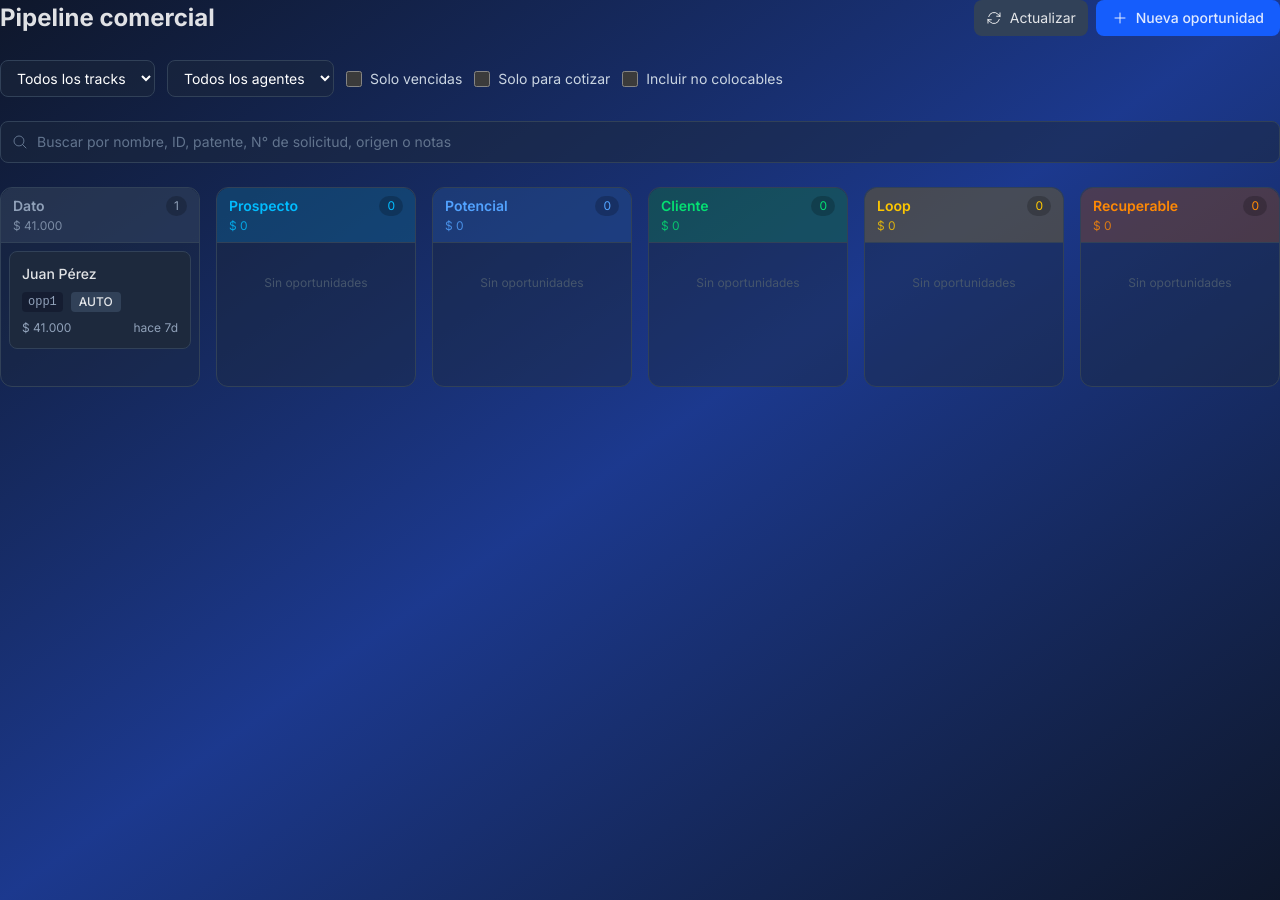
Scenario: la ficha abierta desde el Pipeline conoce el rol (C-6l punto 1) › un ADMIN ve "Eliminar oportunidad"
Click the text "Juan Pérez". click: (59, 274)
box: x1=22 y1=264 x2=97 y2=284
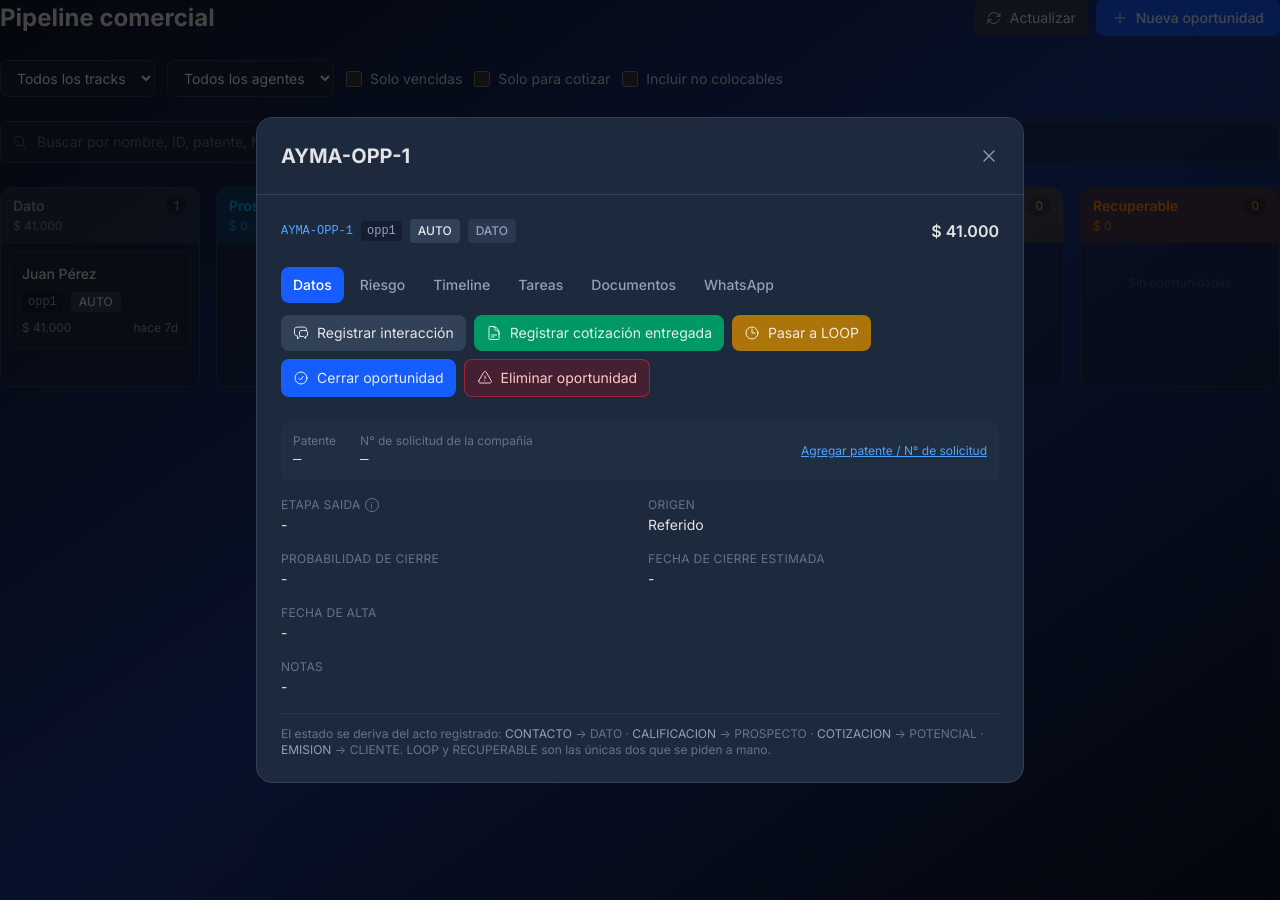
Expected: the button "Eliminar oportunidad" is shown, x1=464 y1=359 x2=650 y2=397
